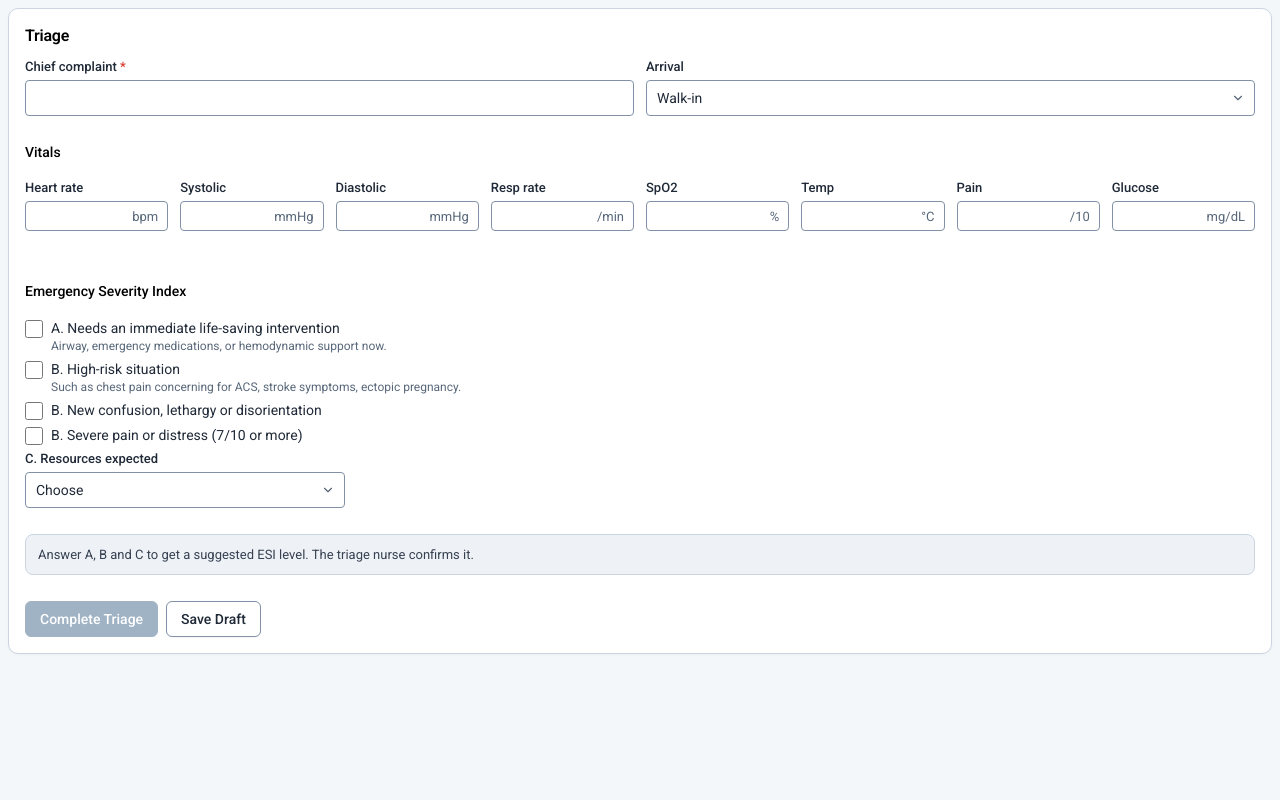
Test: TriageForm › flags a typed vital against the shared range
Type "160" into the field labelled "Heart rate" at (97, 216), box [25, 201, 168, 231]
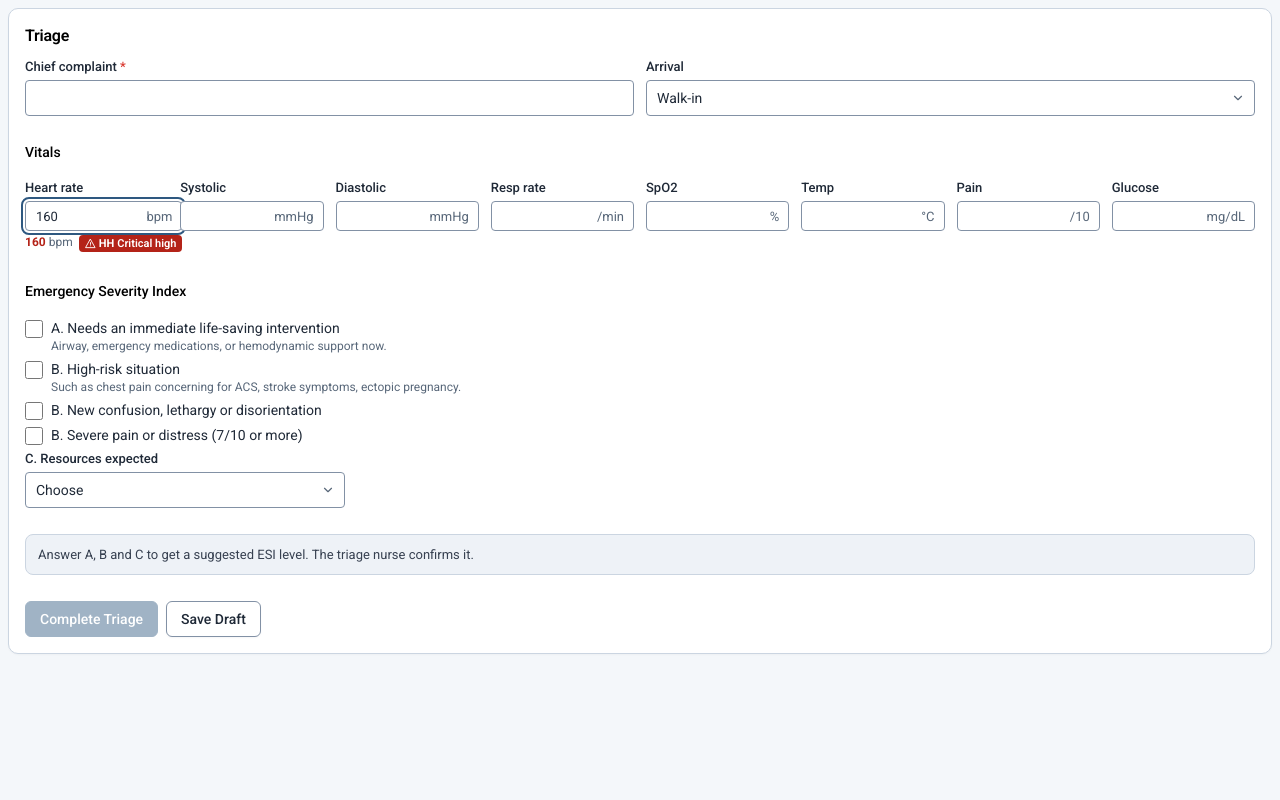
Now the picture "Critical high" is shown, box [79, 235, 182, 252]
